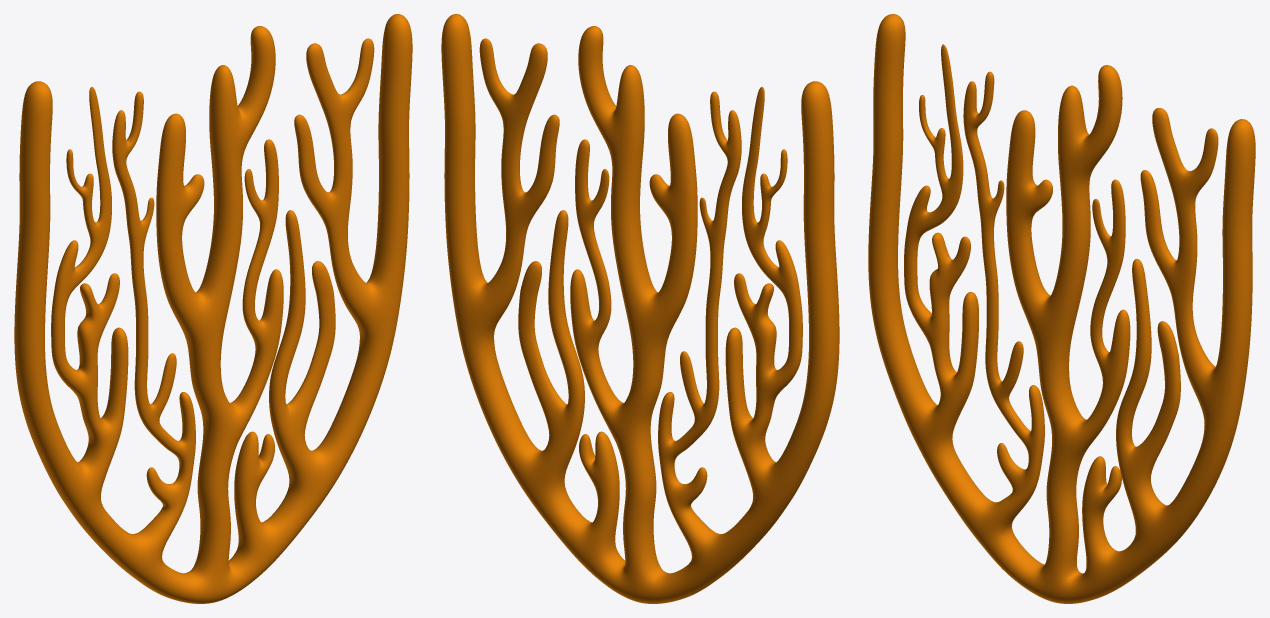
File: Coral 3 flat.fbx
3 renders of one model, left to right at view 1: azimuth 30°, elevation 25°; view 2: azimuth 150°, elevation 25°; view 3: azimuth 330°, elevation 25°, orthographic. The views are drawn at different scales.
Visible parts, largest first — view 1: Cube.001; view 2: Cube.001; view 3: Cube.001.
Part boxes in pixels (x1,y1,x2,y2): Cube.001: (14,14,412,603); Cube.001: (441,14,839,603); Cube.001: (868,14,1255,603).
Bounding box in the file's own units: 67.2 × 91.95 × 5.17.
